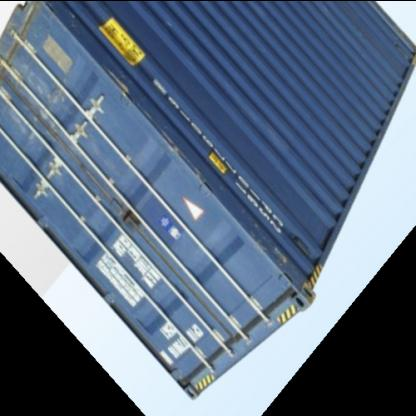Damage: (1, 56, 83, 140), (239, 222, 295, 270)
